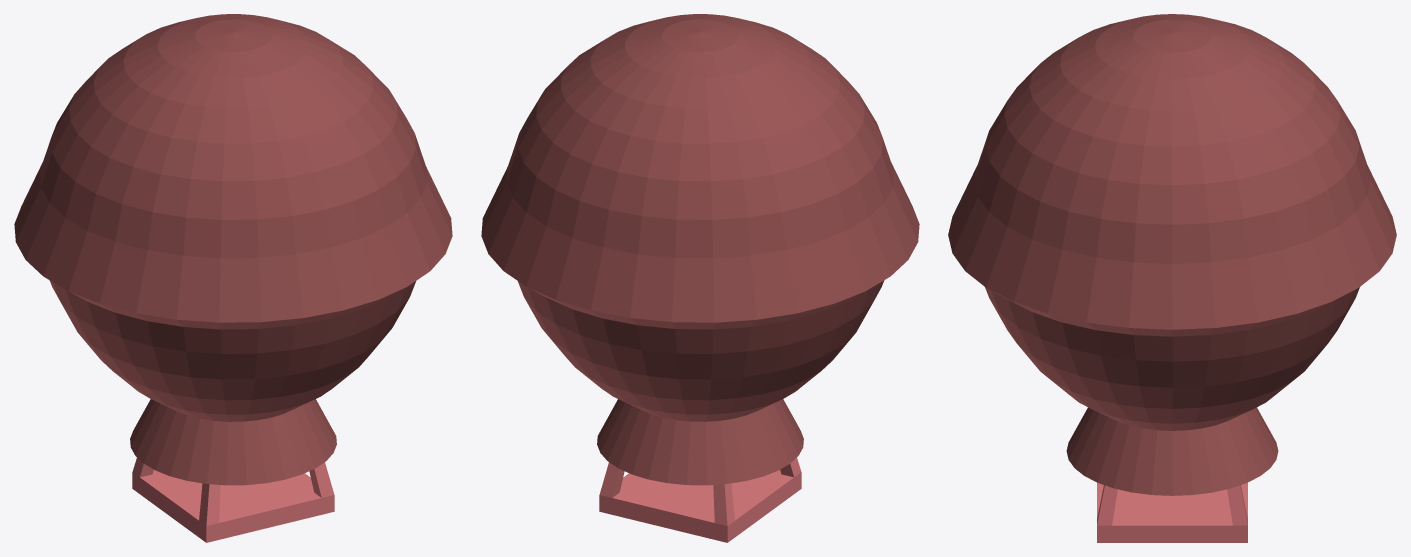
The model's file is usc_42.obj.
3 renders of one model, left to right at view 1: azimuth 30°, elevation 25°; view 2: azimuth 150°, elevation 25°; view 3: azimuth 270°, elevation 25°, orthographic. The views are drawn at different scales.
Visible parts, largest first — view 1: usc-42; view 2: usc-42; view 3: usc-42.
Boxes of the visible parts, x1=… form: usc-42: x1=14, y1=14, x2=452, y2=542; usc-42: x1=481, y1=14, x2=919, y2=542; usc-42: x1=948, y1=14, x2=1396, y2=542.
Bounding box in the file's own units: 2.11 × 2.48 × 2.11.
